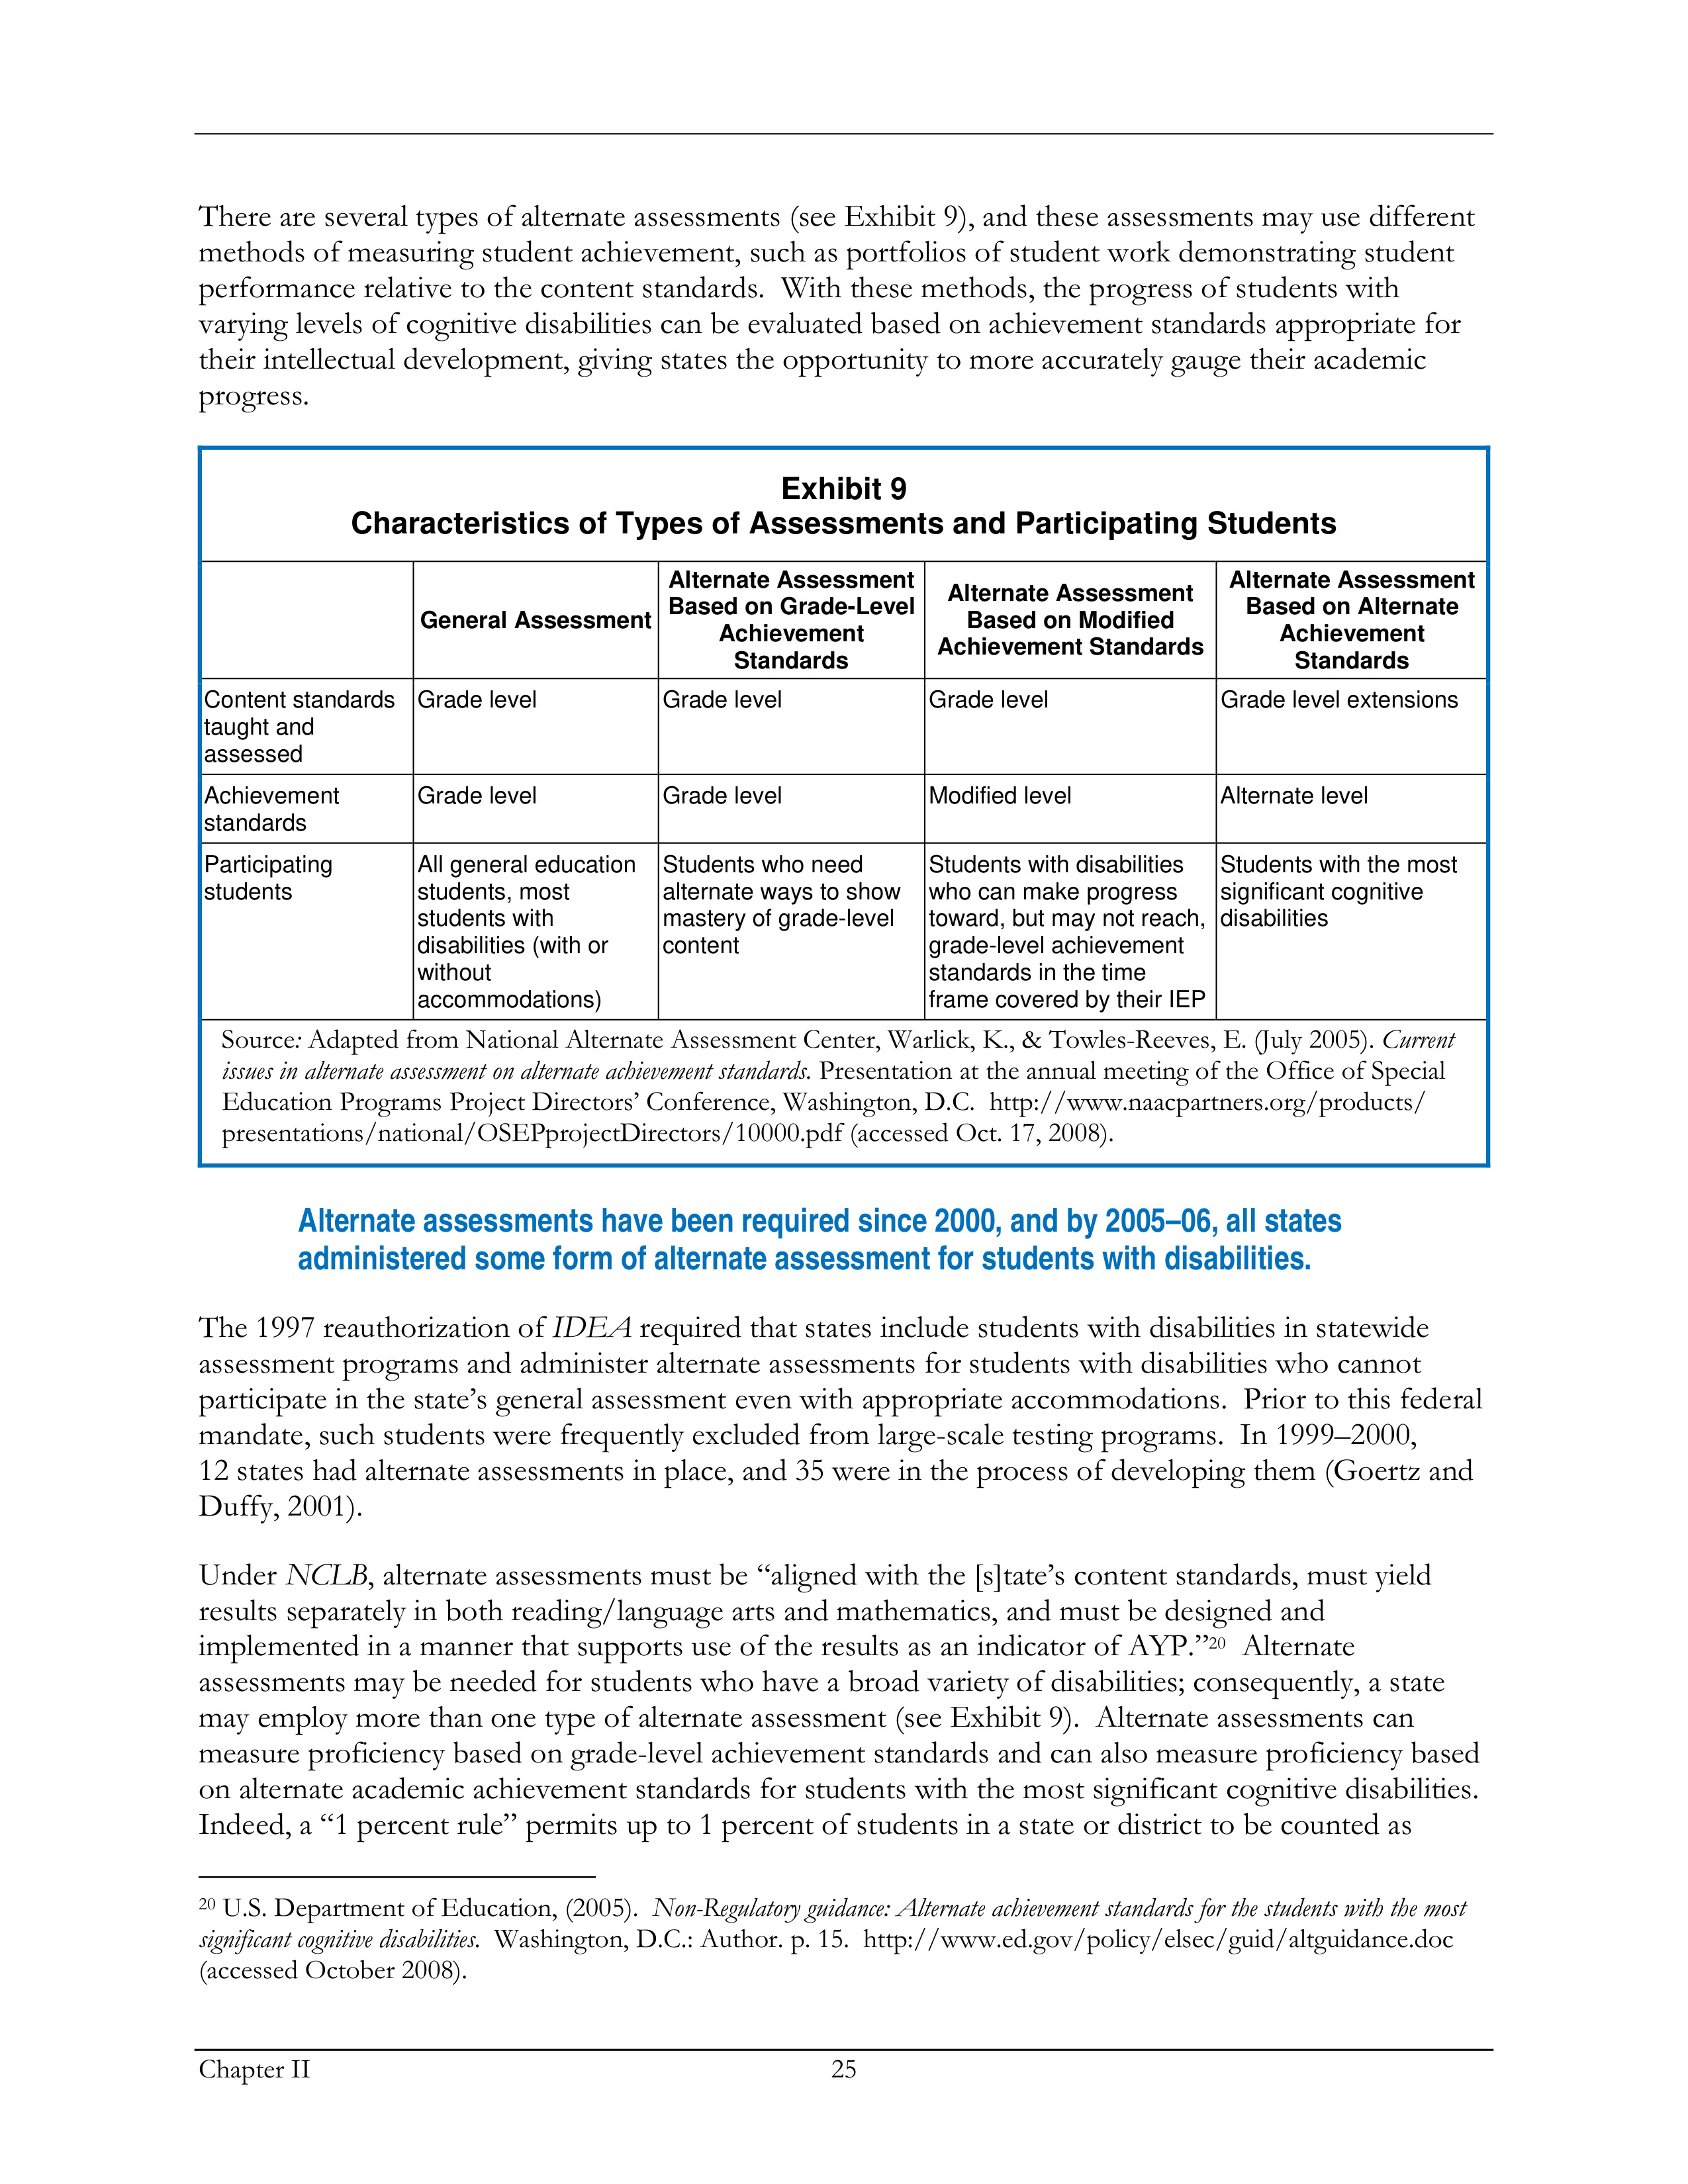table: (204, 562, 1475, 1014)
